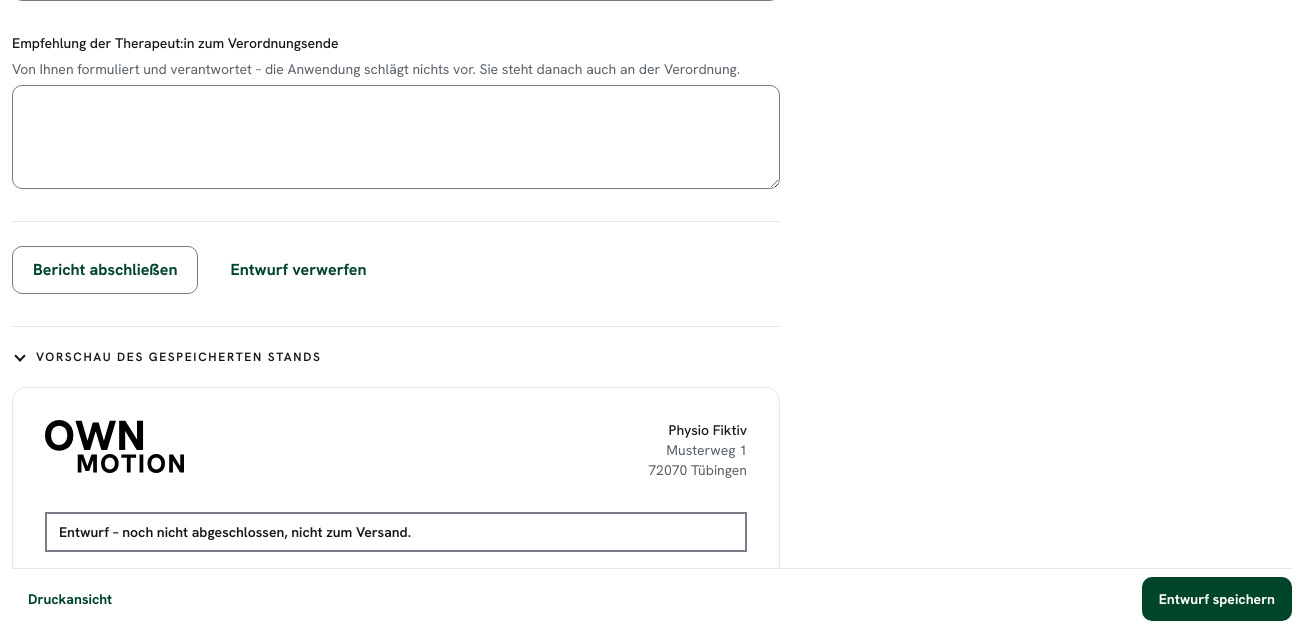
it: Therapiebericht schreiben › bestätigt Abschließen und Verwerfen mit „Ja, …“ (DOK-08, WRT-21)
(page scrolled)
What coordinates should you click on to do the following:
click the button "Bericht abschließen"
I would click on:
 (105, 270)
Its box is [12, 246, 198, 294].
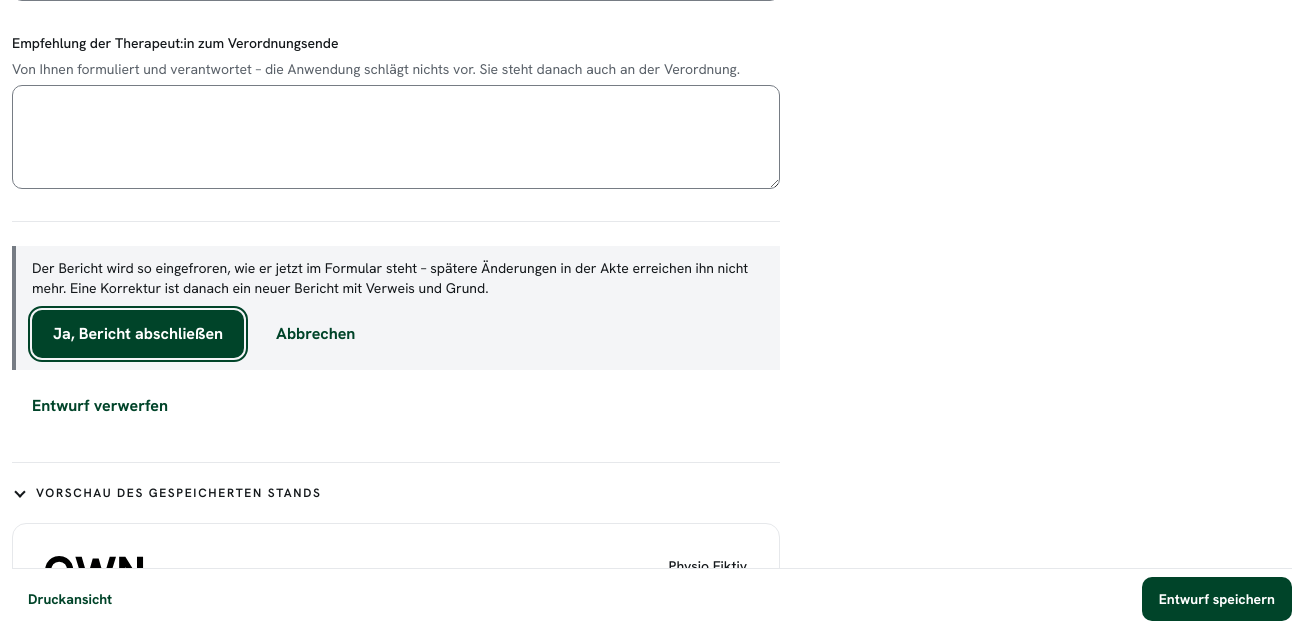
Expected: the button "Ja, Bericht abschließen" is shown, [32, 310, 244, 358]
What coordinates should you click on to do the following:
click the button "Abbrechen"
I would click on:
 (316, 334)
Its box is [256, 310, 375, 358].
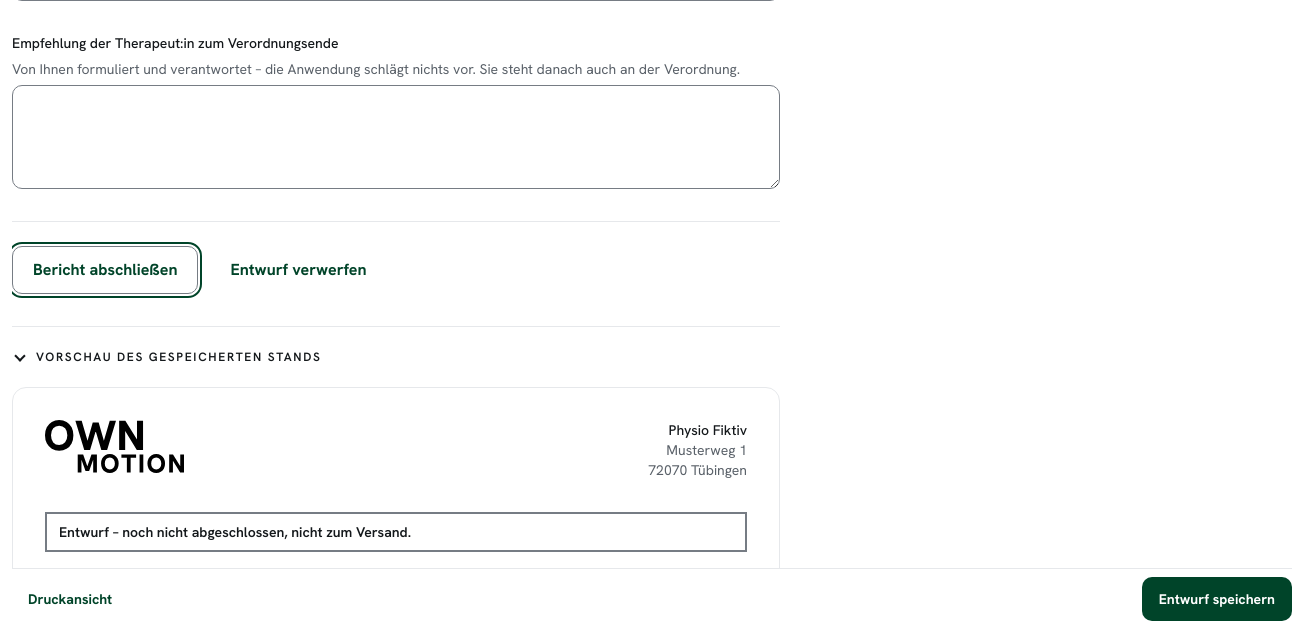
What coordinates should you click on to do the following:
click the button "Entwurf verwerfen"
I would click on:
 (298, 270)
Its box is [210, 246, 386, 294].
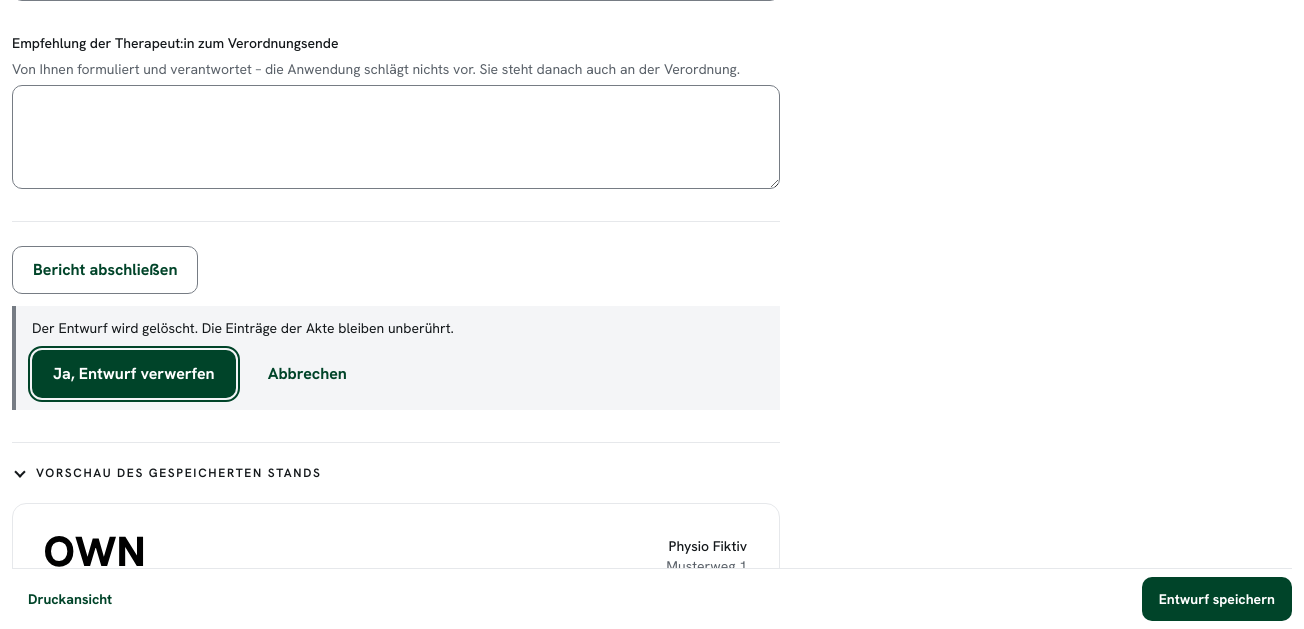
Expected: the button "Ja, Entwurf verwerfen" is shown, [32, 350, 236, 398]
